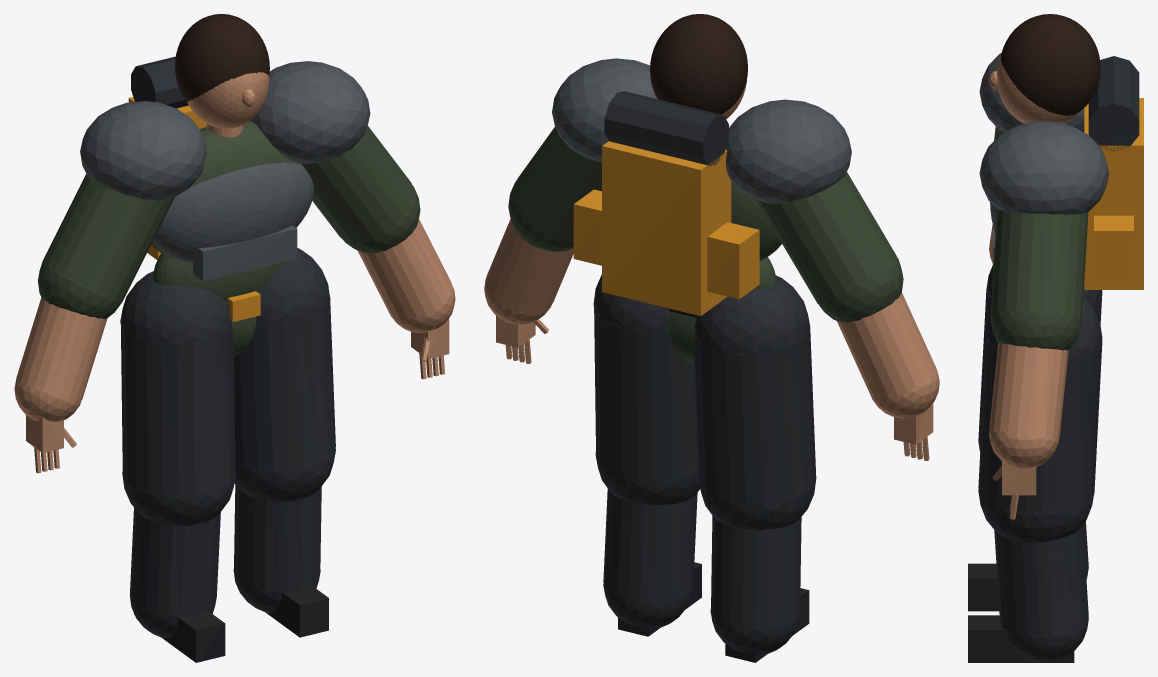
Rendered from armored_squad_leader.glb.
3 views of the same model, side by side, from view 1: azimuth 30°, elevation 25°; view 2: azimuth 150°, elevation 25°; view 3: azimuth 270°, elevation 25° (orthographic). The views are drawn at different scales.
Parts seen in each view (by area): view 1: Trousers, Armor, Shirt, Body_skin, Hair, Boots, Hands, Head, Backpack_secondary, Belt_accent, Body_primary; view 2: Trousers, Backpack_accent, Shirt, Armor, Body_skin, Hair, Backpack_secondary, Hands, Boots, Body_primary; view 3: Trousers, Shirt, Armor, Body_skin, Backpack_accent, Hair, Backpack_secondary, Boots, Head, Hands.
Part boxes in pixels (x1,y1,x2,y2): Trousers: (120, 248, 335, 638); Armor: (80, 61, 370, 281); Shirt: (38, 120, 420, 319); Body_skin: (14, 124, 455, 421); Hair: (175, 14, 269, 101); Boots: (134, 585, 328, 662); Hands: (26, 318, 449, 473); Head: (187, 72, 269, 128); Backpack_secondary: (131, 56, 188, 108); Belt_accent: (227, 291, 260, 321); Body_primary: (232, 316, 256, 355); Trousers: (593, 274, 816, 654); Backpack_accent: (573, 141, 759, 315); Shirt: (508, 127, 903, 322); Armor: (552, 58, 851, 203); Body_skin: (484, 219, 939, 418); Hair: (650, 14, 747, 114); Backpack_secondary: (604, 91, 728, 165); Hands: (496, 315, 933, 460); Boots: (609, 562, 809, 662); Body_primary: (669, 311, 696, 363); Trousers: (978, 264, 1102, 662); Shirt: (990, 123, 1088, 350); Armor: (979, 53, 1109, 266); Body_skin: (989, 225, 1068, 468); Backpack_accent: (1084, 98, 1143, 289); Hair: (1001, 14, 1100, 115); Backpack_secondary: (1088, 56, 1139, 151); Boots: (968, 563, 1084, 662); Head: (989, 56, 1078, 123); Hands: (992, 459, 1036, 519).
Bounding box in the file's own units: 1.4 × 1.87 × 0.485.
